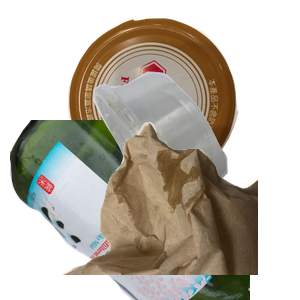glass: (10, 120, 250, 300)
metal: (66, 15, 297, 193)
plastic: (91, 69, 300, 249)
trash: (60, 120, 300, 300)
